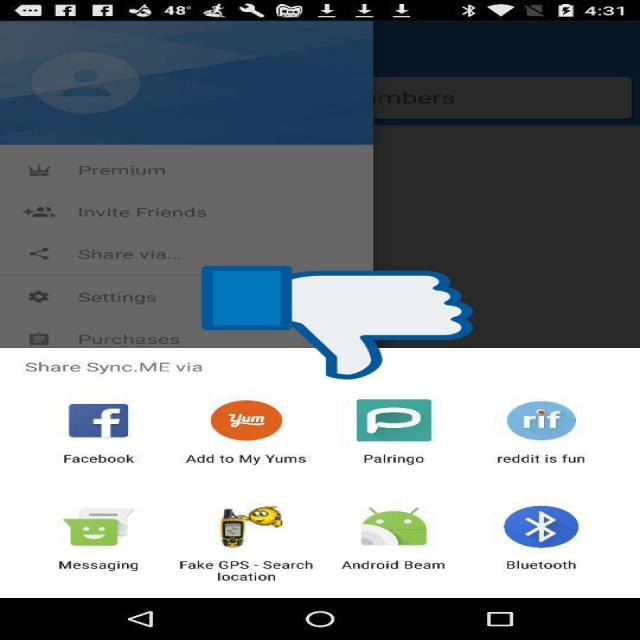obstruction: (201, 263, 473, 382)
